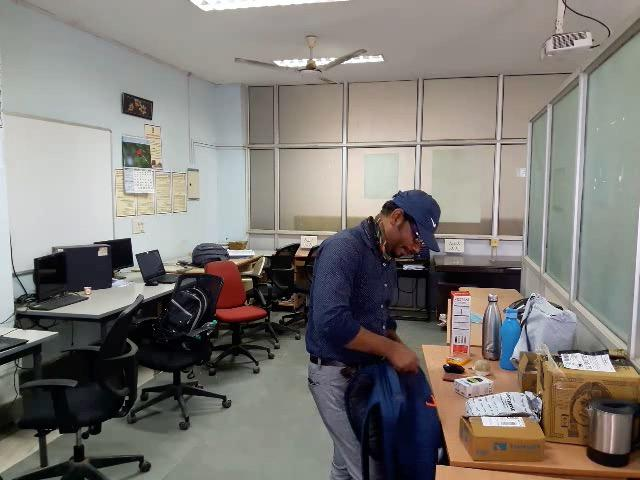shoplifting: (290, 261, 477, 480)
